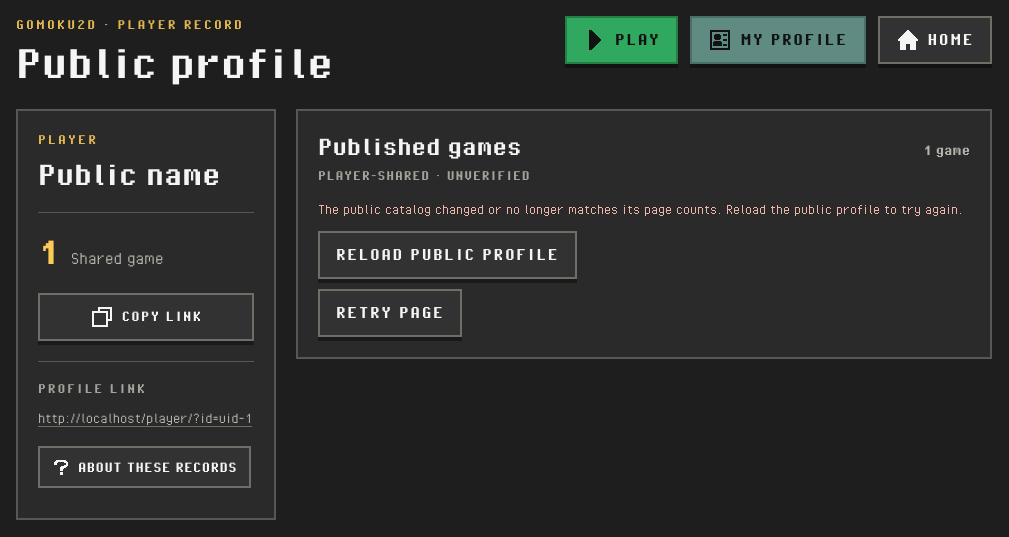
Test: public profile routes and controls › shows a reloadable error when a modern manifest disagrees with a page
The image size is (1009, 537).
Expected: the text "public catalog changed" is shown, [318,201,963,217]
Expected: the heading "Public name" is shown, [38,156,220,192]
Click the button "Reload public profile" at (448, 255), box [318,231,577,279]
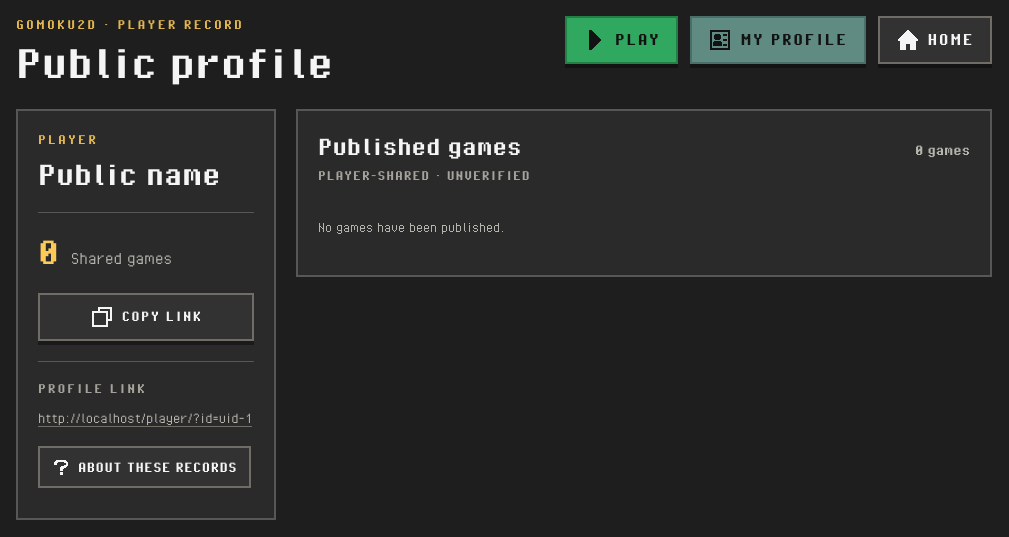
Expected: the text "No games have been published." is shown, [318,219,505,235]
